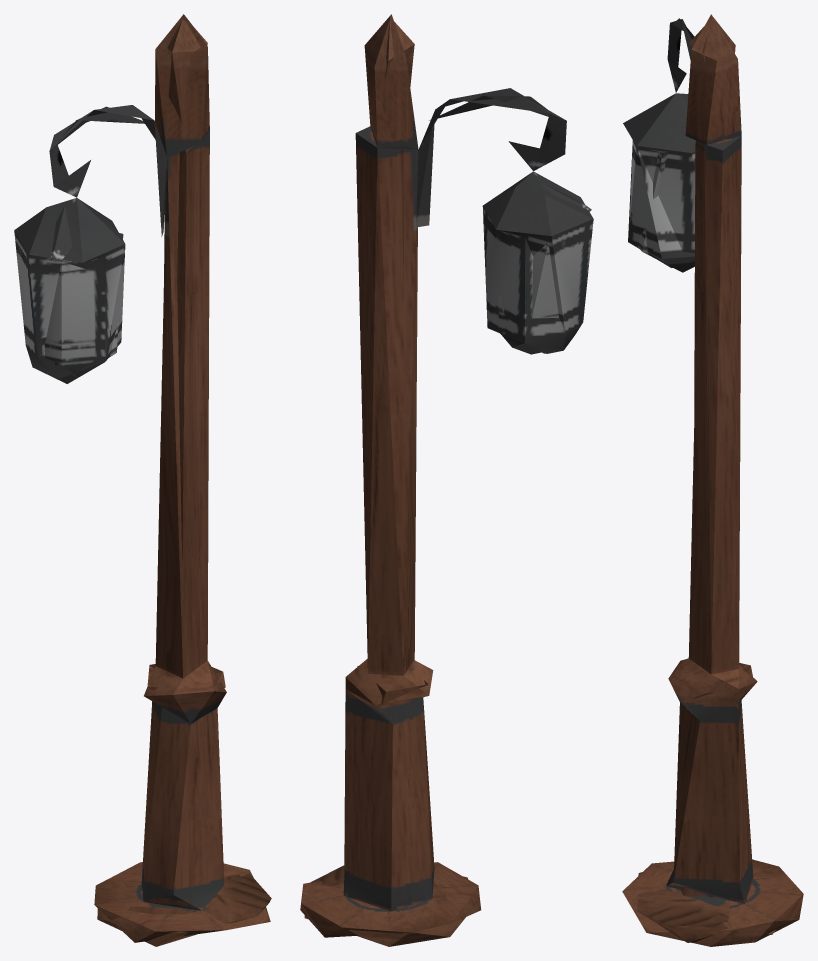
File: post_light_lod0.glb
3 views of the same model, side by side, from view 1: azimuth 30°, elevation 25°; view 2: azimuth 150°, elevation 25°; view 3: azimuth 270°, elevation 25° (orthographic).
Visible parts, largest first — view 1: low; view 2: low; view 3: low.
Part boxes in pixels (x1,y1,x2,y2): low: (14,14,271,946); low: (300,14,593,946); low: (622,14,803,946).
Size of the model in its own units: 1.22 by 4.09 by 0.752.
1 material, 1 textured.
